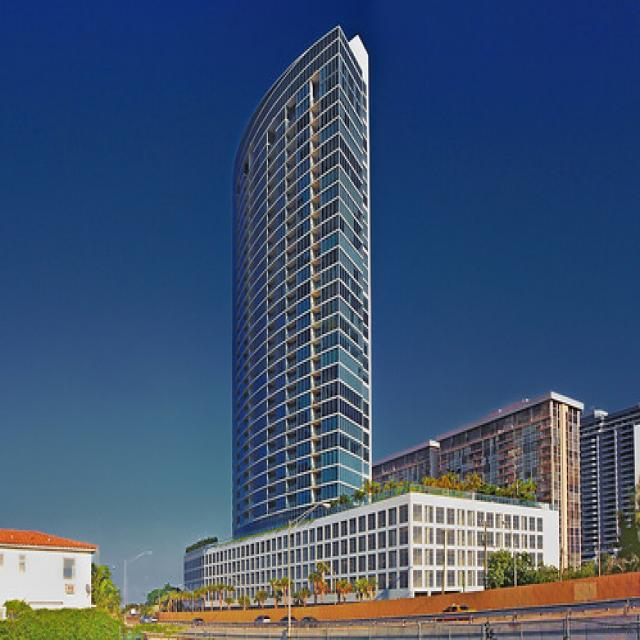Normal_building: (222, 15, 378, 527)
